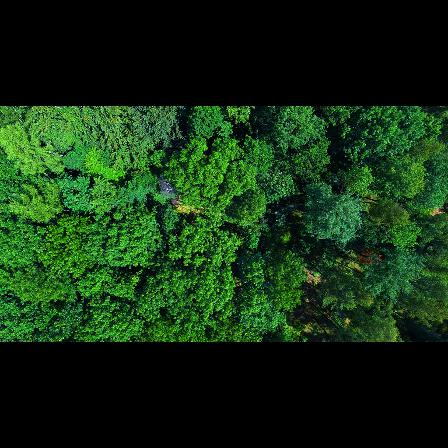Dead: (153, 175, 182, 201)
